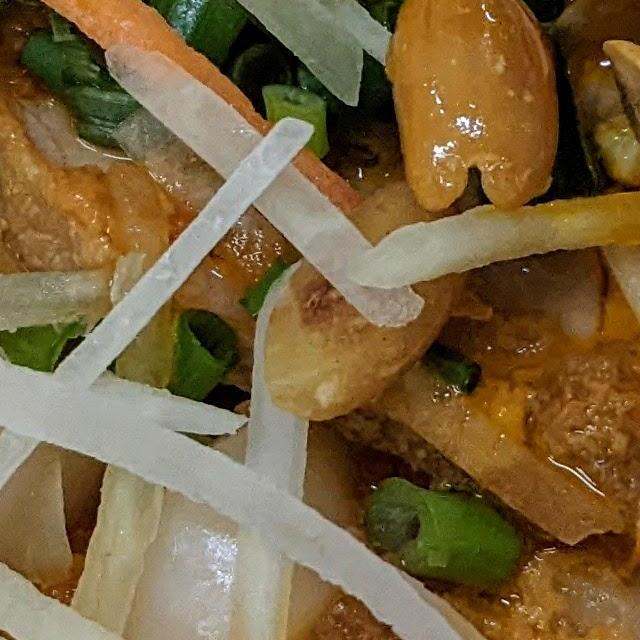mi: (0, 313, 640, 640)
thit heo: (274, 46, 640, 604)
